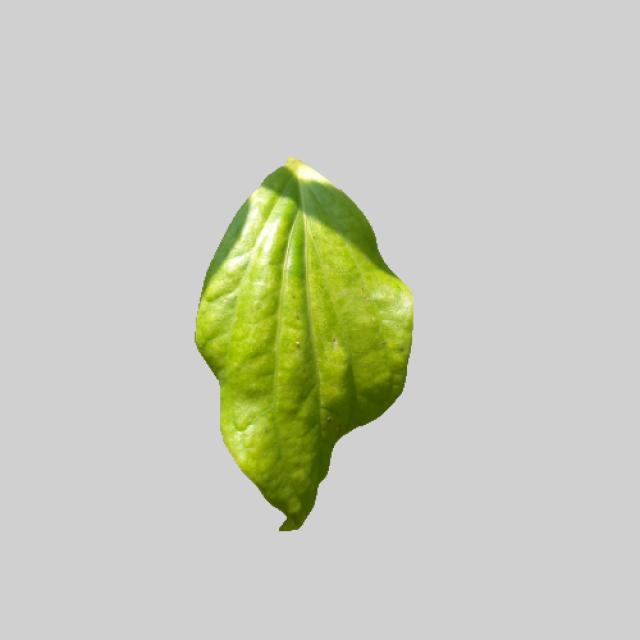yellow-mottle-virus: (192, 158, 412, 532)
